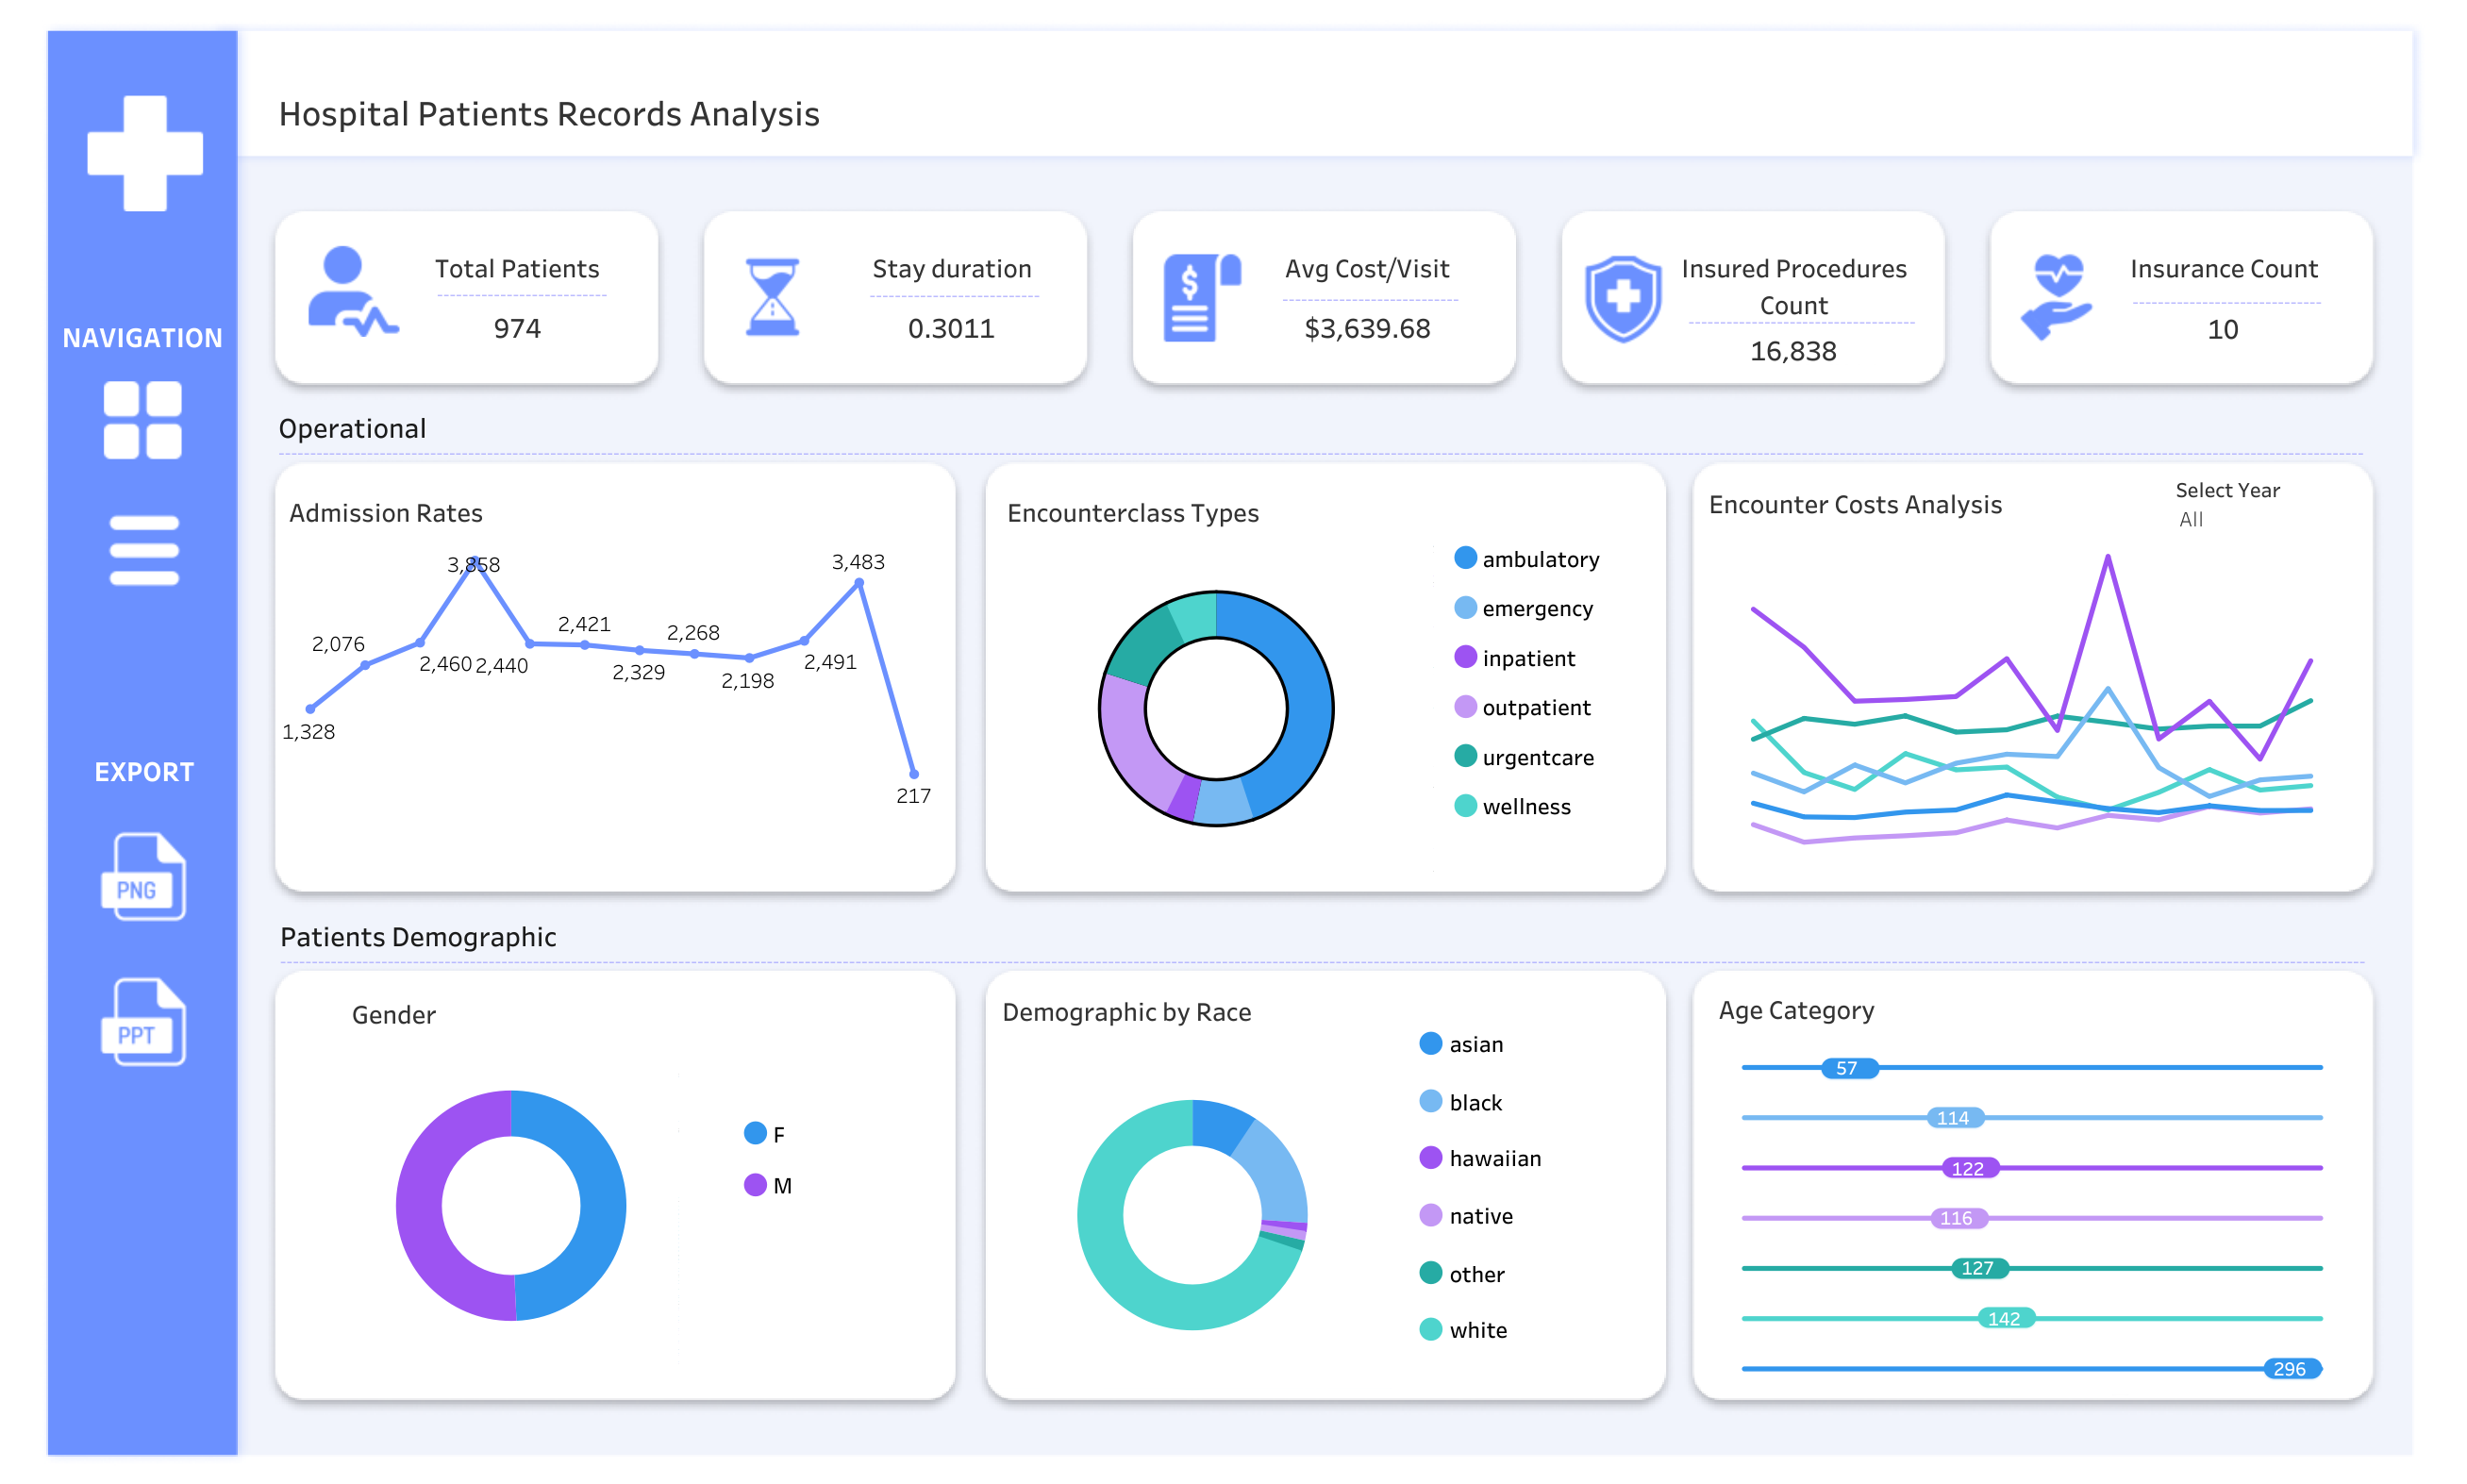

The dashboard page shown, as its layout file describes it:
{"tool":"tableau","page":{"name":"Overview","canvas":[1495,900],"ordinal":1},"visuals":[{"type":"image","param":"Image/Hospital Dashboard.png","box":[8,8,1479,884]},{"type":"text","box":[166.5,51.5,321.6,32.8]},{"type":"image","param":"Image/pharmacy.png","box":[53,58,70,71]},{"type":"worksheet","title":"Total Patients","mark":"Text","box":[241,145,145,69]},{"type":"worksheet","title":"Stay duration","mark":"Automatic","box":[508,145,138,68]},{"type":"worksheet","title":"Avg Cost/Visit","mark":"Automatic","box":[745,145,167,68]},{"type":"worksheet","title":"Insured Procedures Count","mark":"Text","box":[1009,145,156,75]},{"type":"worksheet","title":"Insurance Count","mark":"Text","box":[1269,145,157,70]},{"type":"image","param":"Image/heart-care.png","box":[1211,146,73,69]},{"type":"image","param":"Image/patient.png","box":[187,149,56,55]},{"type":"image","param":"Image/bill.png","box":[702,154,59,53]},{"type":"image","param":"Image/health-insurance.png","box":[956,154,57,55]},{"type":"image","param":"Image/hourglass.png","box":[443,155,56,50]},{"type":"text","box":[262,162,107,29]},{"type":"text","box":[524,163,113,30]},{"type":"text","box":[774,165,118,30]},{"type":"text","box":[1289,167,121,30]},{"type":"text","box":[1020,179,148,30]},{"type":"text","box":[30,188,113,30]},{"type":"dashboard-object","box":[30,231,114,47]},{"type":"text","box":[166,239,1271,38]},{"type":"text","box":[166,267,1270,11]},{"type":"filter","title":"Encounter Costs Analysis","param":"[federated.0sejw0f1yb4zil1a6oo03197j9nr].[yr:START:ok]","box":[1318,286,109,44]},{"type":"worksheet","title":"Encounter Costs Analysis","mark":"Automatic","rows":["TOTAL_CLAIM_COST"],"cols":["START"],"box":[1031,288,399,245]},{"type":"worksheet","title":"Admission Rates","mark":"Automatic","rows":["Calculation_14988577816236037"],"cols":["START"],"box":[171,293,399,236]},{"type":"worksheet","title":"Encounterclass Types","mark":"Pie","rows":["Calculation_14988577835847692","Calculation_14988577835847692"],"box":[606,293,261,235]},{"type":"dashboard-object","box":[30,300,115,67]},{"type":"worksheet","title":"Encounterclass Legend","mark":"Circle","rows":["ENCOUNTERCLASS"],"cols":["Calculation_14566365418131474"],"box":[777,322,220,181]},{"type":"text","box":[30,450,115,33]},{"type":"dashboard-object","box":[31,502,113,58]},{"type":"text","box":[167,547,1271,39]},{"type":"text","box":[167,574,1270,13]},{"type":"dashboard-object","box":[30,590,114,58]},{"type":"worksheet","title":"Age Category","mark":"Line","rows":["Calculation_14636734190182417"],"cols":["Id (patients.csv)"],"box":[1037,594,387,250]},{"type":"worksheet","title":"Demographic by Race","mark":"Pie","rows":["Calculation_14988577835847692","Calculation_14988577835847692"],"box":[603,595,239,245]},{"type":"worksheet","title":"Gender","mark":"Pie","rows":["Calculation_14988577835847692","Calculation_14988577835847692"],"box":[209,597,201,229]},{"type":"worksheet","title":"Race Legend","mark":"Circle","rows":["RACE"],"cols":["Calculation_14566365418131474"],"box":[733,614,267,208]},{"type":"worksheet","title":"Gender Legend","mark":"Circle","rows":["GENDER"],"cols":["Calculation_14566365418131474"],"box":[382,671,150,62]}]}

Visuals, with their boxes in screenshot pixels (x1, y1, x2, y2), scaled from the page's 1495x900 canvas onto the 2467x1484 screenshot:
image: <bbox>13, 13, 2454, 1471</bbox>
text: <bbox>275, 85, 806, 139</bbox>
image: <bbox>88, 95, 203, 212</bbox>
"Total Patients" worksheet (Text marks): <bbox>398, 239, 637, 353</bbox>
"Stay duration" worksheet: <bbox>839, 239, 1066, 351</bbox>
"Avg Cost/Visit" worksheet: <bbox>1229, 239, 1505, 351</bbox>
"Insured Procedures Count" worksheet (Text marks): <bbox>1665, 239, 1923, 363</bbox>
"Insurance Count" worksheet (Text marks): <bbox>2094, 239, 2353, 355</bbox>
image: <bbox>1998, 241, 2119, 355</bbox>
image: <bbox>308, 245, 401, 337</bbox>
image: <bbox>1158, 254, 1256, 342</bbox>
image: <bbox>1577, 254, 1672, 344</bbox>
image: <bbox>731, 256, 824, 338</bbox>
text: <bbox>432, 267, 608, 315</bbox>
text: <bbox>865, 269, 1051, 318</bbox>
text: <bbox>1277, 272, 1472, 322</bbox>
text: <bbox>2127, 275, 2326, 325</bbox>
text: <bbox>1683, 295, 1927, 344</bbox>
text: <bbox>49, 310, 236, 359</bbox>
dashboard-object: <bbox>49, 381, 238, 459</bbox>
text: <bbox>274, 394, 2372, 457</bbox>
text: <bbox>274, 441, 2370, 459</bbox>
"Encounter Costs Analysis" filter: <bbox>2175, 472, 2355, 544</bbox>
"Encounter Costs Analysis" worksheet: <bbox>1701, 475, 2359, 879</bbox>
"Admission Rates" worksheet: <bbox>282, 483, 941, 873</bbox>
"Encounterclass Types" worksheet (Pie marks): <bbox>1000, 483, 1431, 871</bbox>
dashboard-object: <bbox>49, 494, 240, 605</bbox>
"Encounterclass Legend" worksheet (Circle marks): <bbox>1282, 531, 1645, 829</bbox>
text: <bbox>49, 742, 240, 796</bbox>
dashboard-object: <bbox>51, 827, 238, 924</bbox>
text: <bbox>275, 902, 2373, 966</bbox>
text: <bbox>275, 946, 2372, 968</bbox>
dashboard-object: <bbox>49, 973, 238, 1069</bbox>
"Age Category" worksheet (Line marks): <bbox>1711, 979, 2350, 1392</bbox>
"Demographic by Race" worksheet (Pie marks): <bbox>995, 981, 1390, 1385</bbox>
"Gender" worksheet (Pie marks): <bbox>345, 984, 676, 1362</bbox>
"Race Legend" worksheet (Circle marks): <bbox>1209, 1012, 1650, 1356</bbox>
"Gender Legend" worksheet (Circle marks): <bbox>630, 1107, 878, 1209</bbox>
